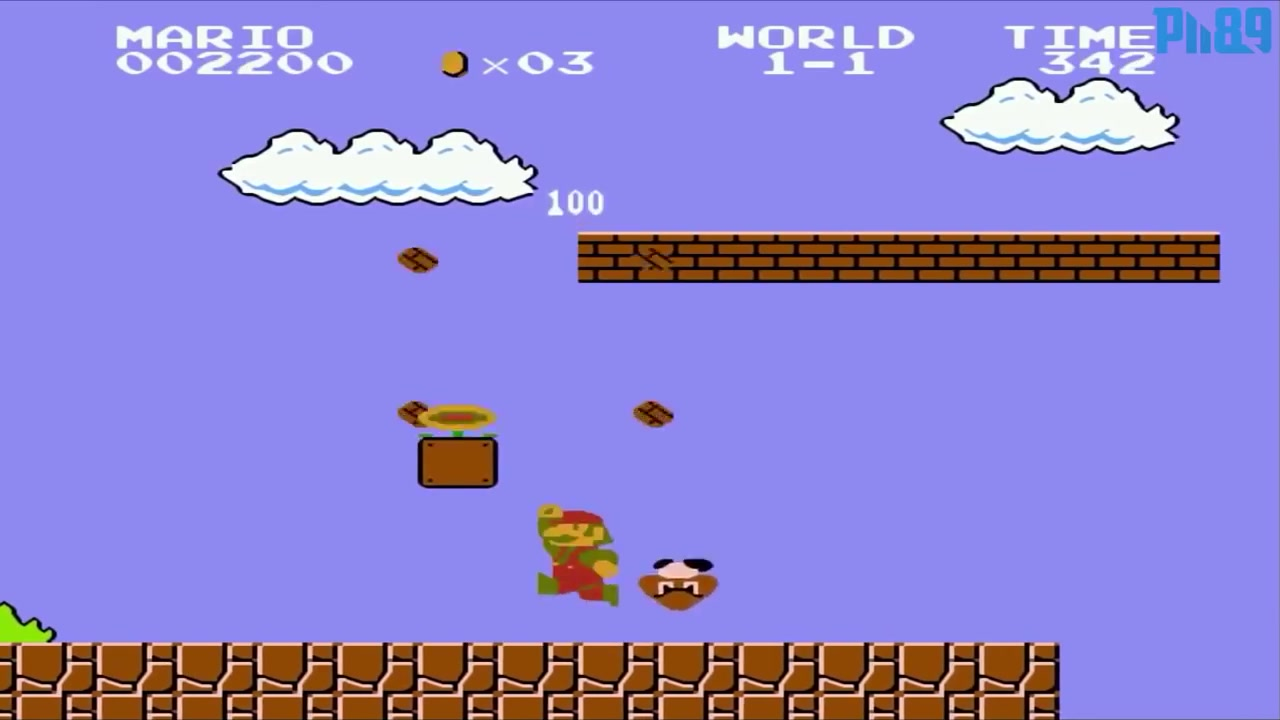mario: (526, 488, 627, 612)
